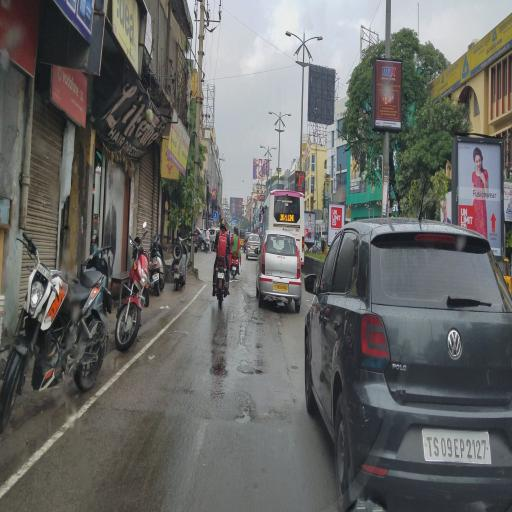street_light_0: (303, 26, 327, 56), (279, 20, 303, 50), (278, 106, 298, 128), (268, 135, 280, 161), (257, 134, 269, 160), (266, 106, 280, 128)
